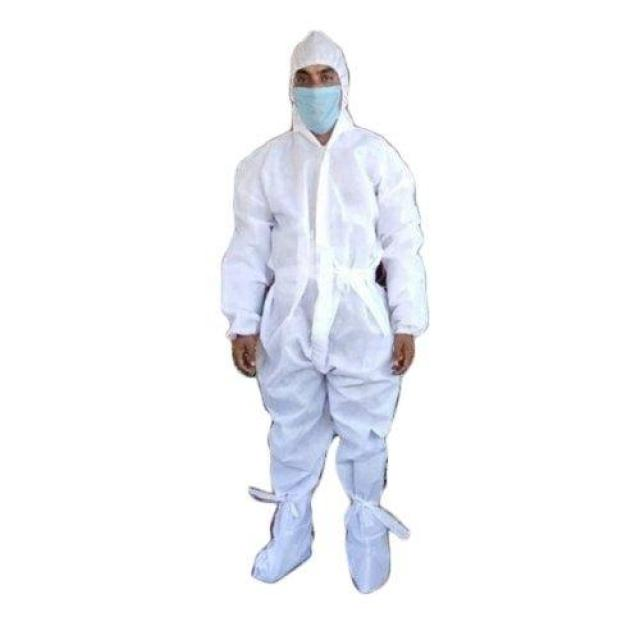Coverall: (191, 14, 458, 640)
Mask: (285, 84, 352, 135)
